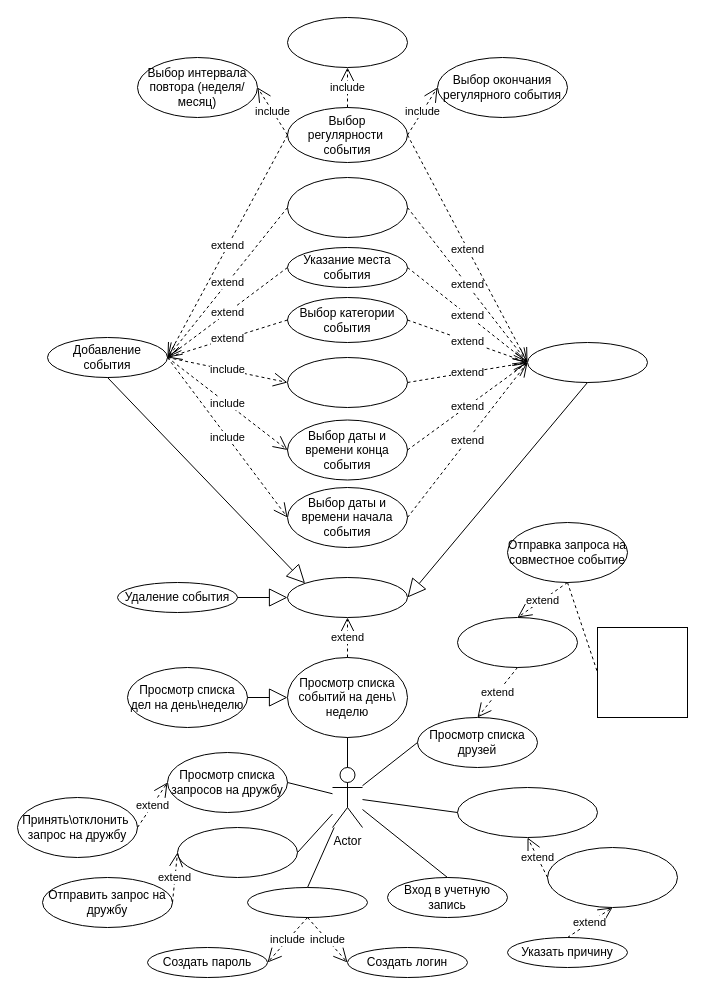
Some shapes in this 705 by 995 pixel diagram are drawn without their labels. The centre of each missing label's shape, as x and y in pixels:
Выбор дней повторения события (пн-вс): the point at 347,42
Изменение события: the point at 587,362
Поиск пользователя по логину: the point at 237,852
Получение уведомления о запросе на встречу: the point at 527,812
Принять\отклонить предложение о событии: the point at 612,877
Просмотр событий друга: the point at 517,642
Регистрация: the point at 307,902
Редактирование события: the point at 347,597
Указание комментария к событию: the point at 347,207
Указание названия события: the point at 347,382
Условие: выбранная дата и время у друга не занята событием: the point at 642,672
